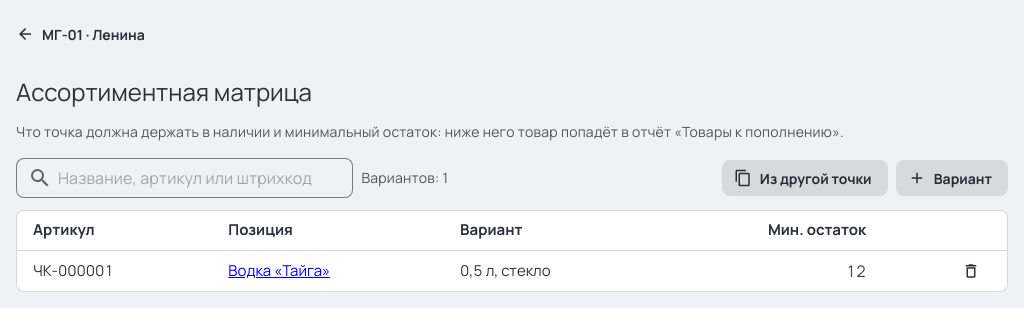
Test: AssortmentPage › поиск уходит на сервер, по Enter — сразу
The image size is (1024, 325).
Type "тайга" into the field with placeholder "Название, артикул или штрихкод".
click(197, 178); type("тайга")  # box [52, 158, 342, 198]
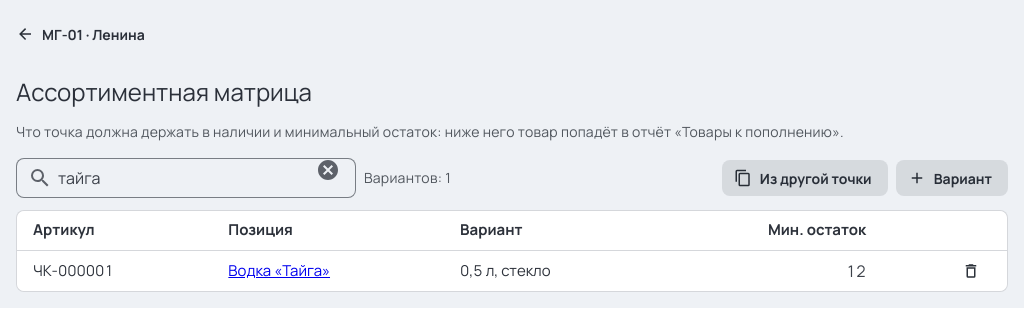
Press Enter in the field next to "Вариантов: 1", box [52, 158, 312, 198]
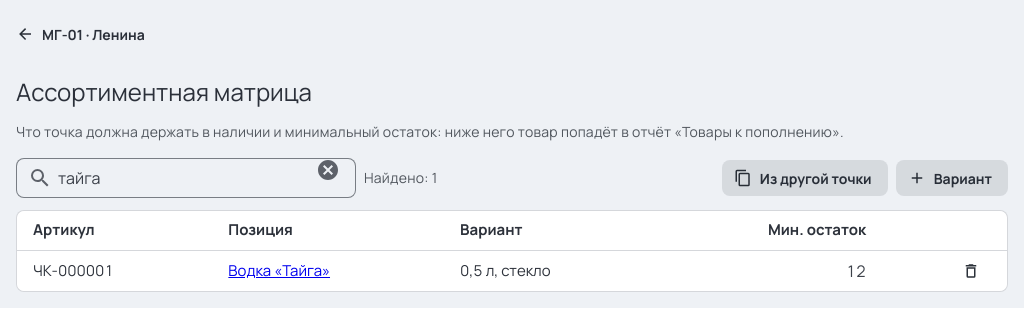
Now the text with test id "assortment-total" reads "Найдено: 1", box [364, 168, 437, 187]
